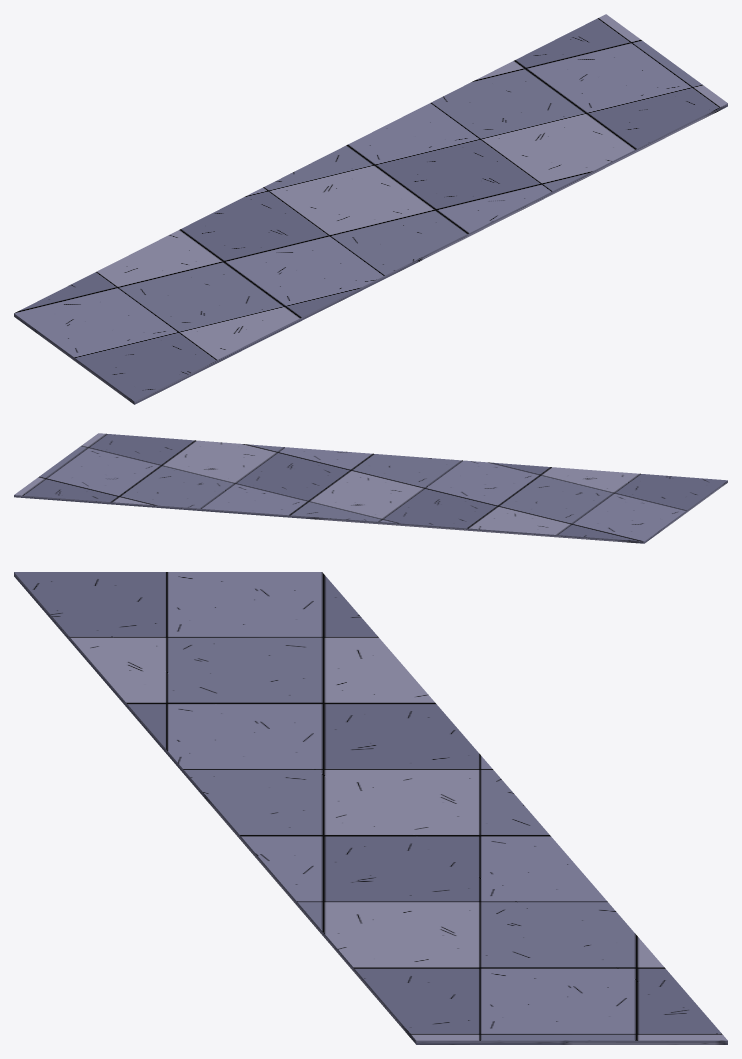
Rendered from big_piece.fbx.
3 renders of one model, top to bottom at view 1: azimuth 30°, elevation 25°; view 2: azimuth 150°, elevation 25°; view 3: azimuth 270°, elevation 25°, orthographic. The views are drawn at different scales.
Parts seen in each view (by area): view 1: Box003; view 2: Box003; view 3: Box003.
Part boxes in pixels (x1,y1,x2,y2): Box003: [14, 14, 727, 404]; Box003: [14, 433, 727, 543]; Box003: [14, 572, 727, 1044].
Bounding box in the file's own units: 50.17 × 0.2127 × 32.31.
